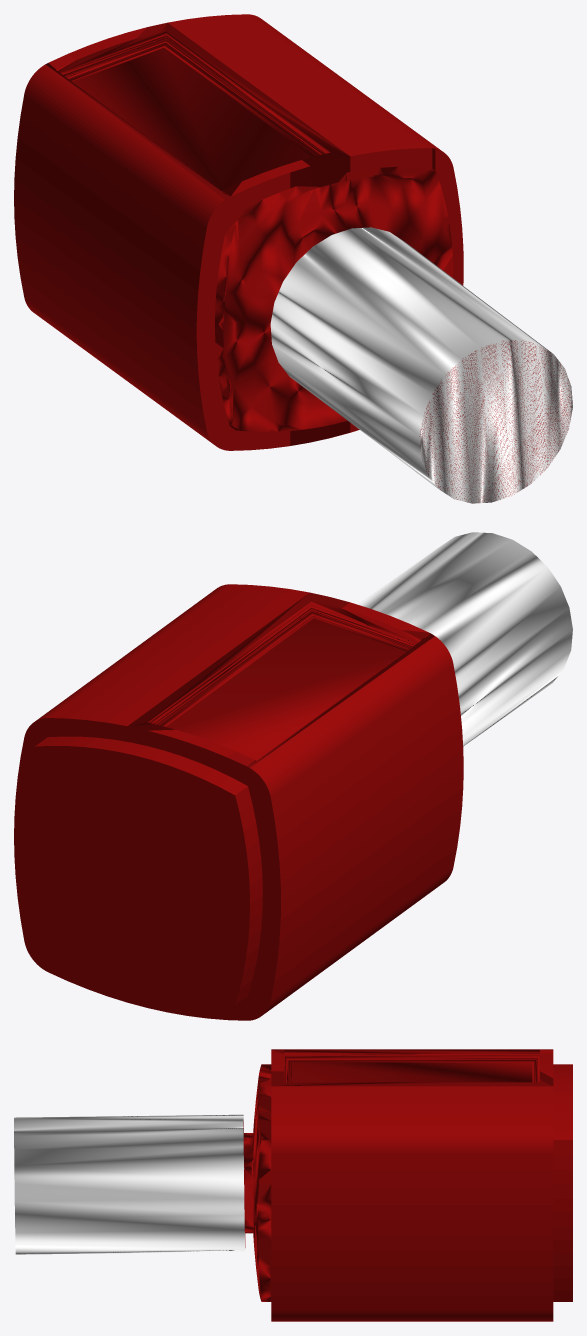
File: model_align.obj
3 views of the same model, one above another, from view 1: azimuth 30°, elevation 25°; view 2: azimuth 150°, elevation 25°; view 3: azimuth 270°, elevation 25° (orthographic). The views are drawn at different scales.
Bounding box in the file's own units: 0.0819 × 0.0813 × 0.1923.
